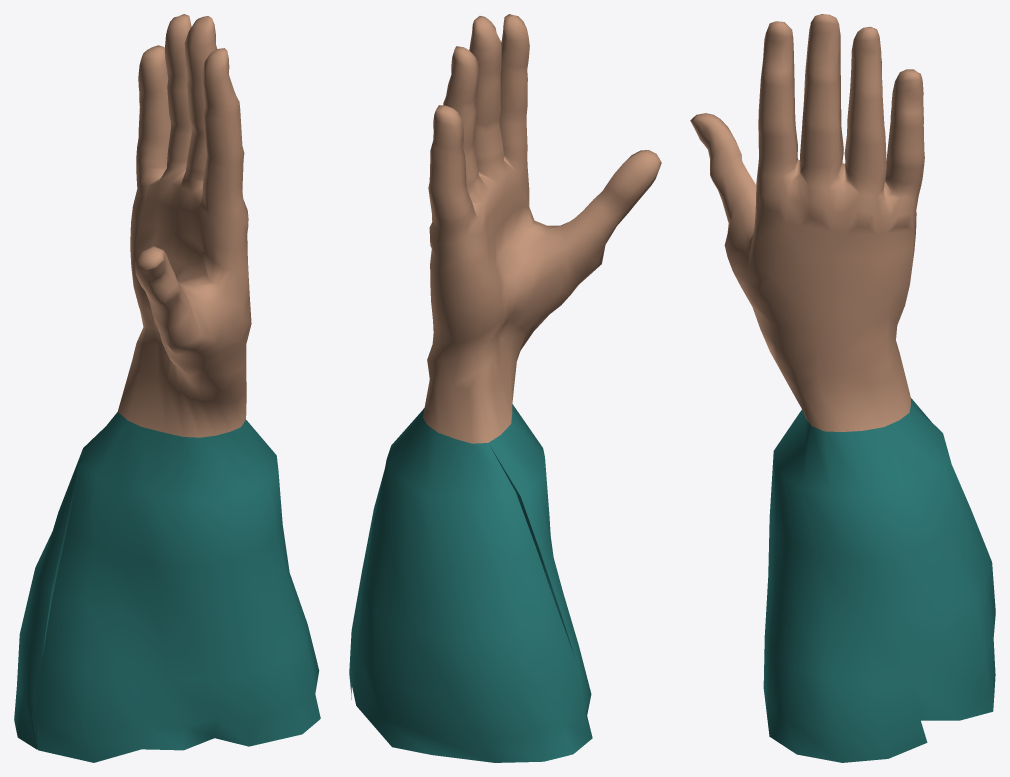
The model's file is pov_wave.glb.
The picture shows the model from 3 angles, left to right: view 1: azimuth 30°, elevation 25°; view 2: azimuth 150°, elevation 25°; view 3: azimuth 270°, elevation 25°; orthographic projection. The views are drawn at different scales.
Visible parts, largest first — view 1: pov_wave; view 2: pov_wave; view 3: pov_wave.
Boxes of the visible parts, x1=… form: pov_wave: x1=14, y1=14, x2=320, y2=762; pov_wave: x1=349, y1=14, x2=661, y2=762; pov_wave: x1=690, y1=14, x2=995, y2=762.
Size of the model in its own units: 0.169 by 0.4443 by 0.1769.
